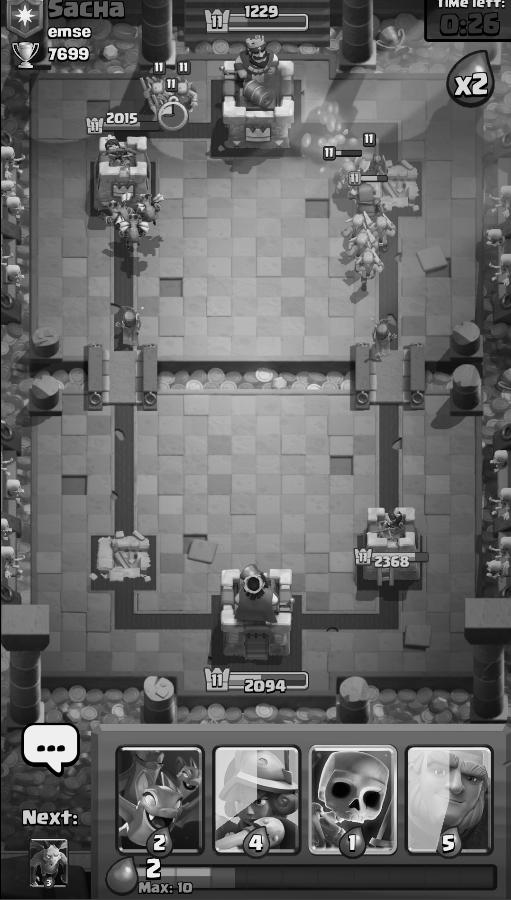archere: (111, 307, 151, 347), (368, 314, 404, 358)
gargouille: (132, 189, 168, 226), (100, 200, 141, 230), (122, 218, 152, 245)
gobelin: (348, 251, 386, 285), (340, 212, 374, 245), (368, 210, 397, 244), (345, 232, 379, 260)
mini_PEKKA: (350, 141, 397, 178), (345, 183, 390, 214)
